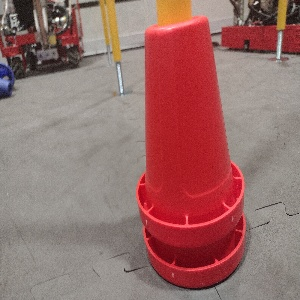Red_2: (134, 13, 247, 290)
